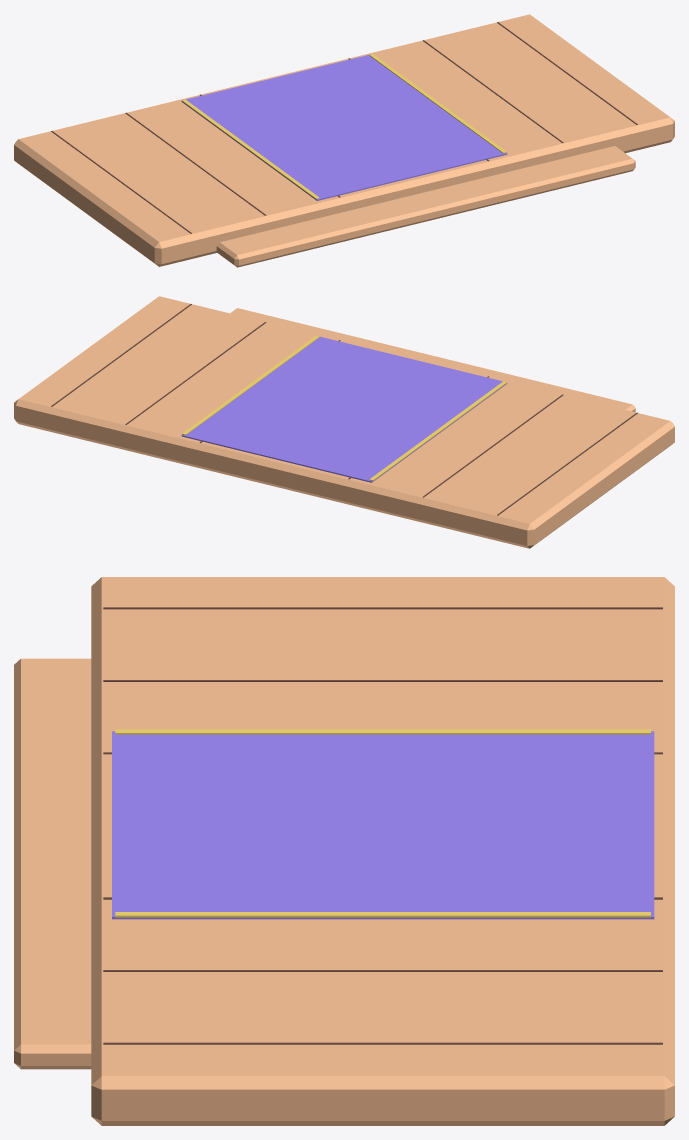
3 renders of one model, top to bottom at view 1: azimuth 30°, elevation 25°; view 2: azimuth 150°, elevation 25°; view 3: azimuth 270°, elevation 25°, orthographic. The views are drawn at different scales.
Visible parts, largest first — view 1: Sanctuary platform, Stage carpet, Entry step, Carpet border, Carpet border.001; view 2: Sanctuary platform, Stage carpet, Entry step, Carpet border, Carpet border.001; view 3: Sanctuary platform, Stage carpet, Entry step, Carpet border, Carpet border.001, Wood seam, Wood seam.005, Wood seam.001, Wood seam.004.
Boxes of the visible parts, x1,y1,x2,y2 form: Sanctuary platform: [14, 14, 674, 266]; Stage carpet: [181, 55, 507, 200]; Entry step: [216, 146, 635, 267]; Carpet border: [182, 99, 319, 198]; Carpet border.001: [369, 54, 506, 153]; Sanctuary platform: [14, 296, 674, 548]; Stage carpet: [181, 336, 507, 482]; Entry step: [230, 308, 635, 412]; Carpet border: [369, 381, 506, 480]; Carpet border.001: [182, 336, 319, 435]; Sanctuary platform: [91, 577, 674, 1125]; Stage carpet: [112, 731, 654, 919]; Entry step: [14, 658, 91, 1069]; Carpet border: [115, 729, 650, 734]; Carpet border.001: [115, 912, 650, 917]; Wood seam: [103, 607, 662, 609]; Wood seam.005: [103, 1042, 662, 1044]; Wood seam.001: [103, 680, 662, 681]; Wood seam.004: [103, 970, 662, 971].
Bounding box in the file's own units: 3.5 × 0.173 × 1.93.
1 material, 1 textured.
